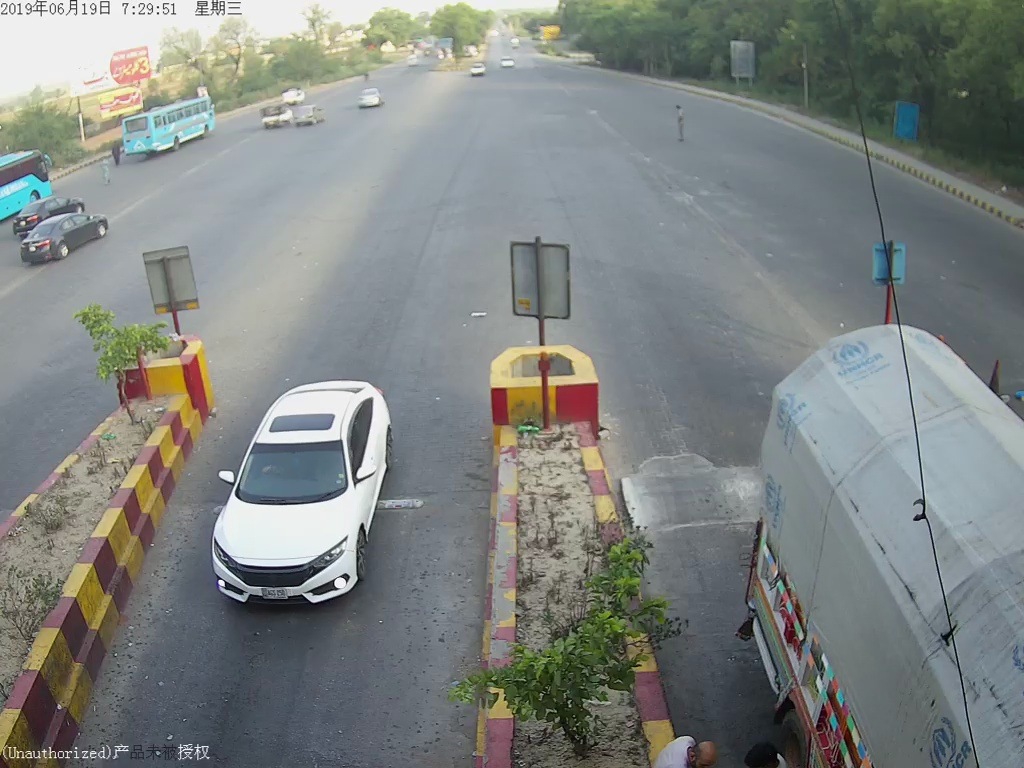Cat-1: (200, 374, 403, 619)
